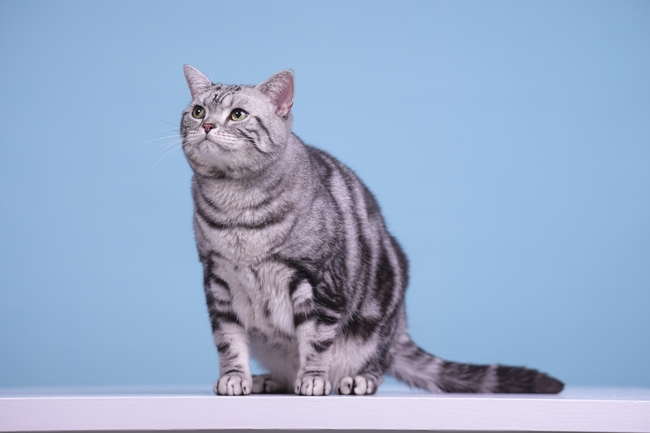cat: (176, 62, 568, 396)
